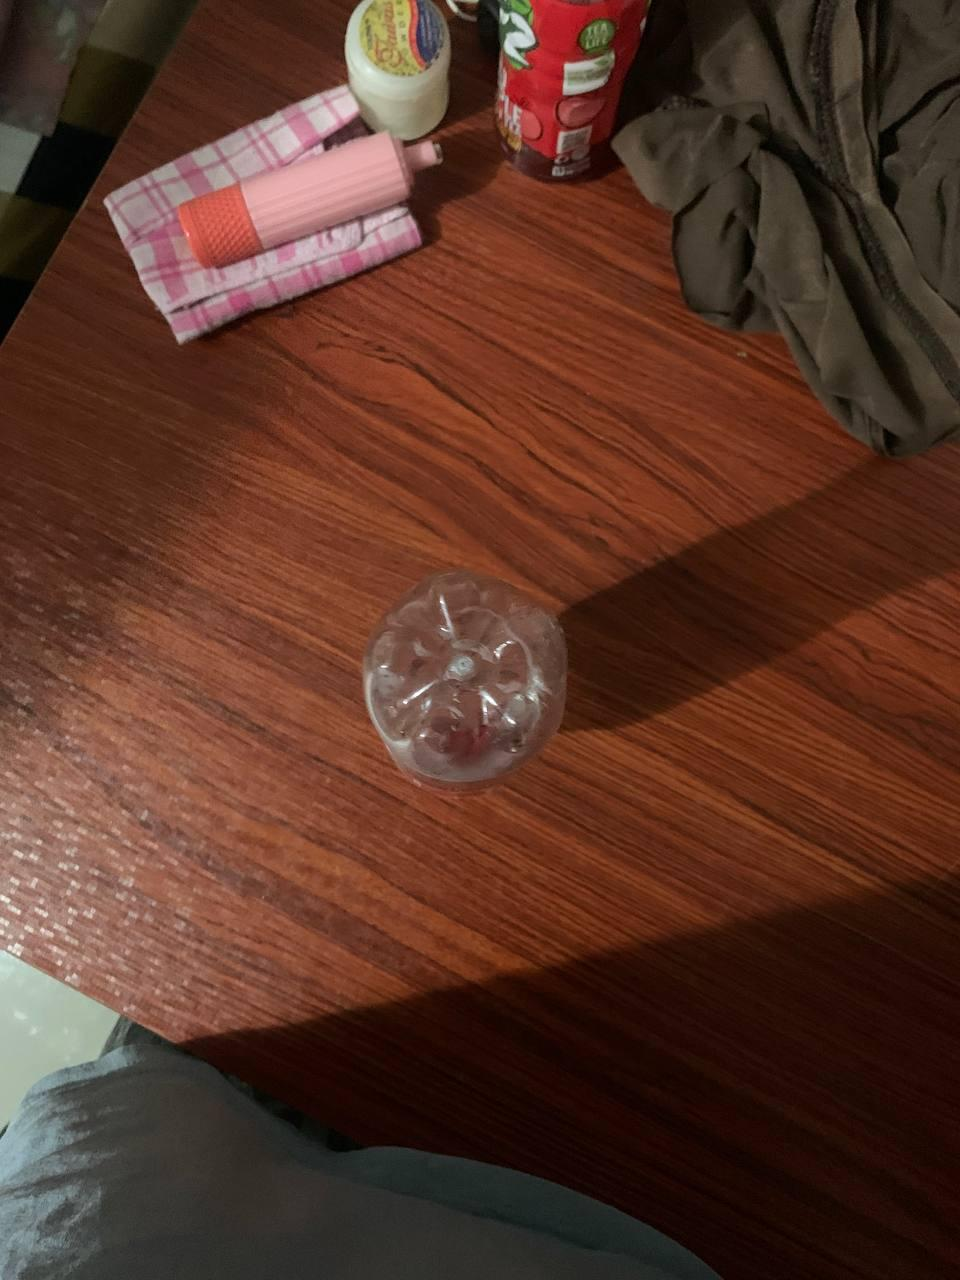plastic: (316, 530, 609, 825)
